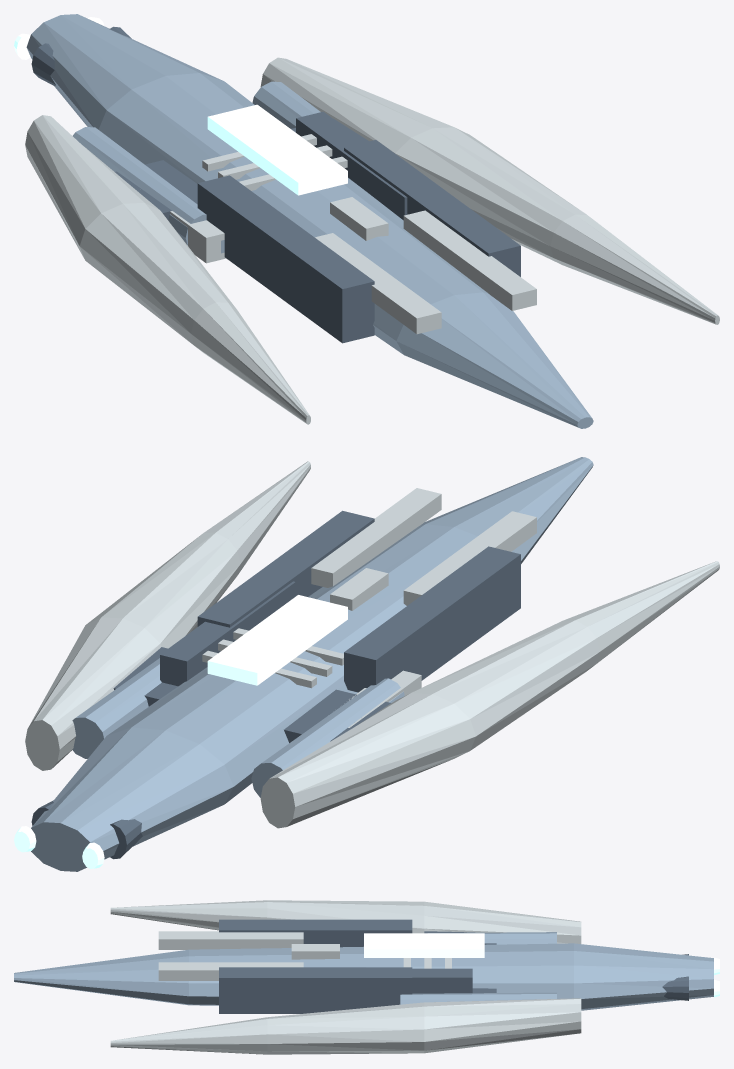
3 views of the same model, one above another, from view 1: azimuth 30°, elevation 25°; view 2: azimuth 150°, elevation 25°; view 3: azimuth 270°, elevation 25° (orthographic). The views are drawn at different scales.
Bounding box in the file's own units: 5.54 × 1.2 × 12.29.
